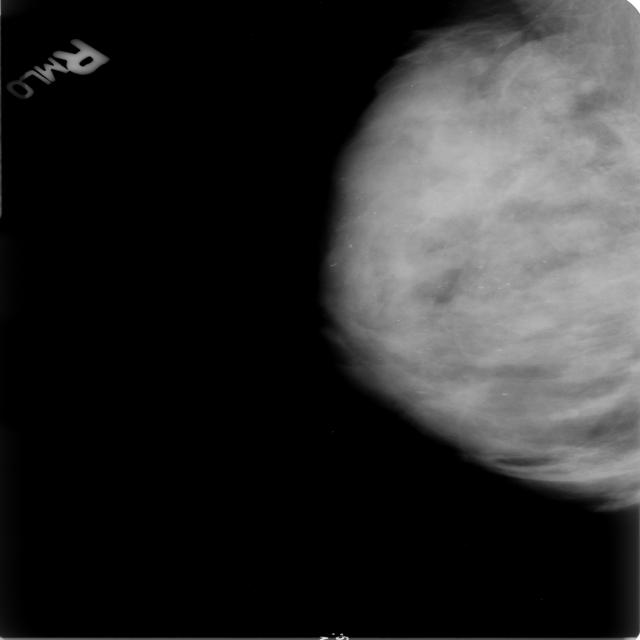normal: (315, 0, 639, 511)
